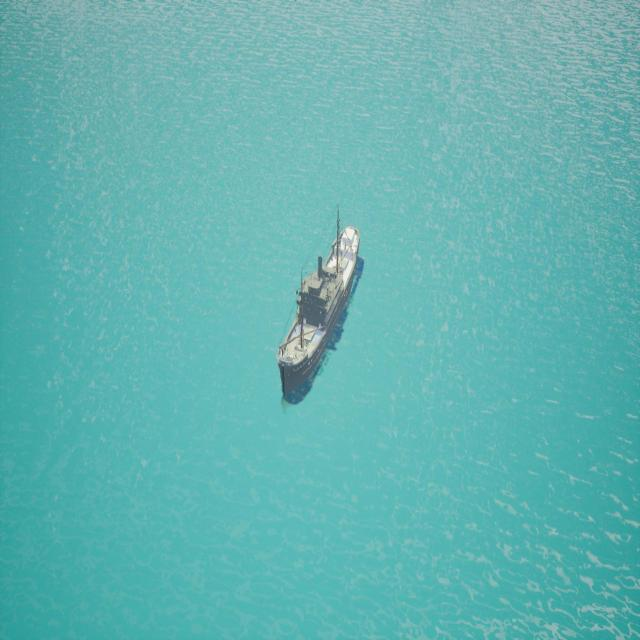fishing ship: (278, 228, 365, 410)
